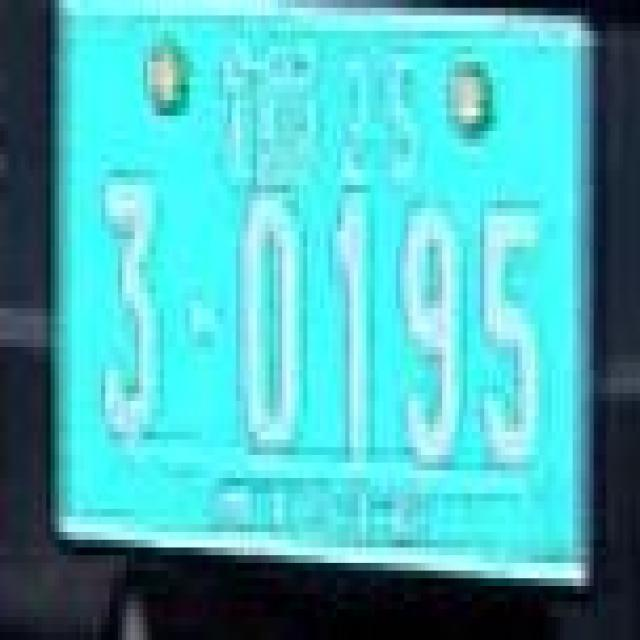State: (219, 39, 317, 190)
